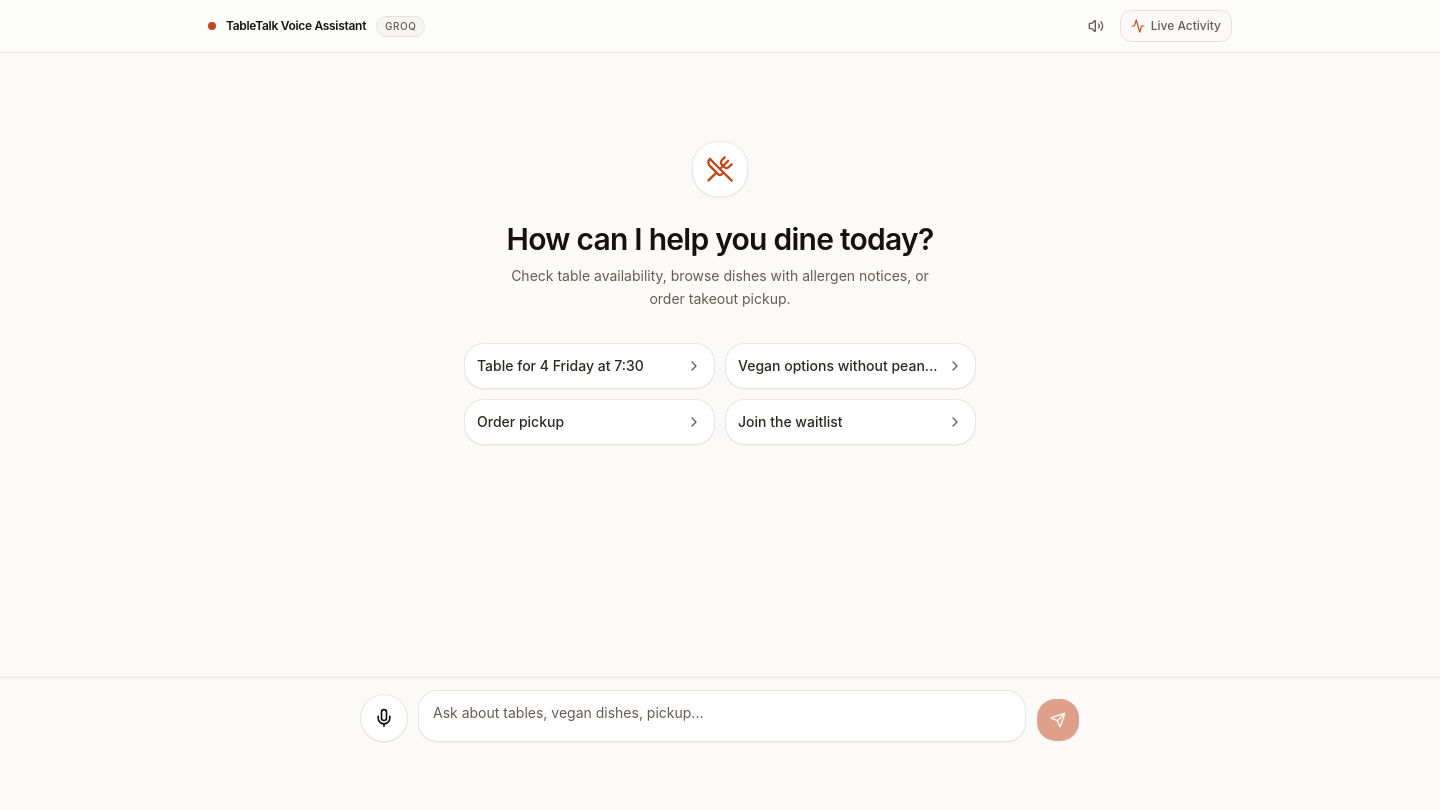
Test: Assistant Page (/assistant) › renders audio narration mute toggle and controls
This screenshot has width=1440, height=810.
Click the button named "Mute Voice Narration": (1096, 26) [1080,10,1112,42]
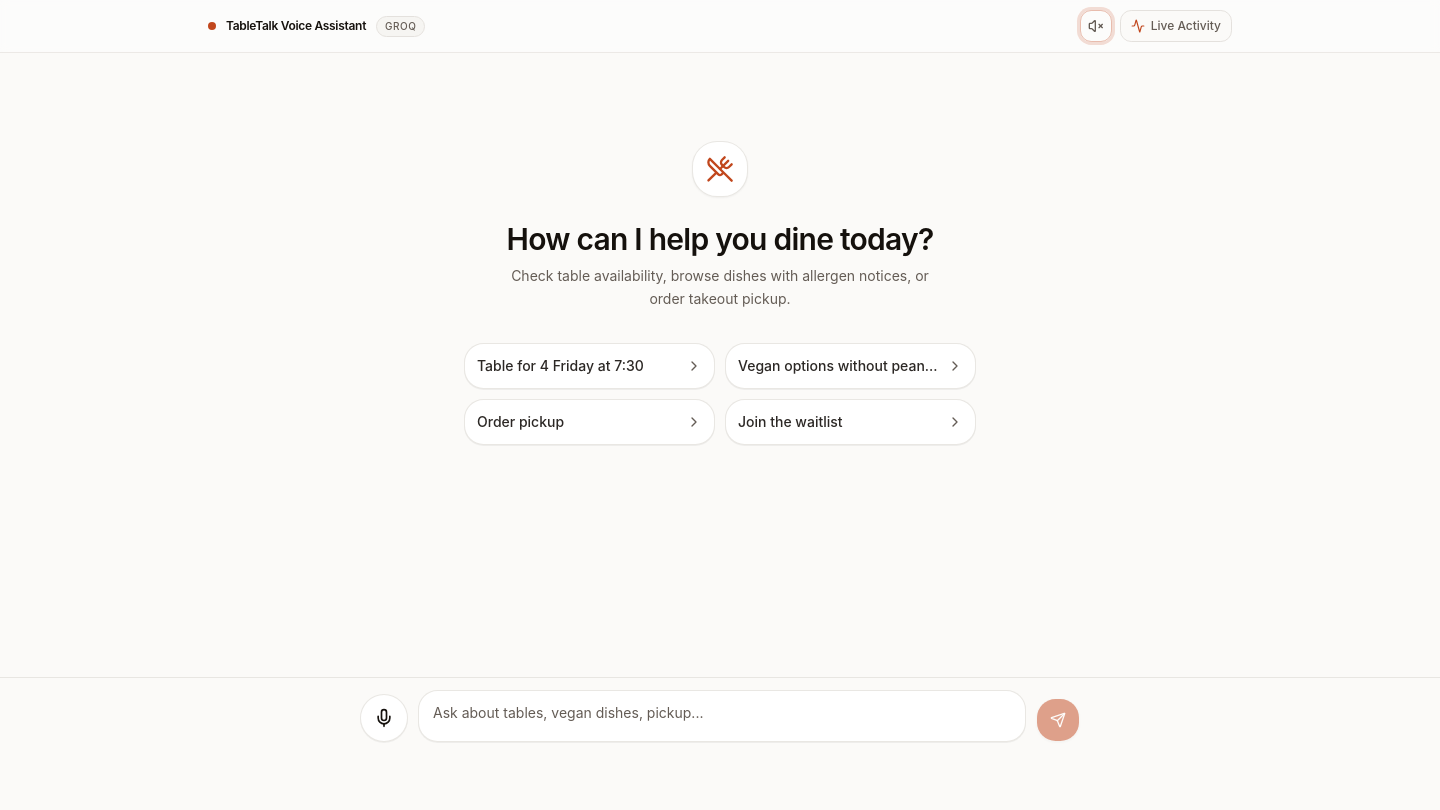
Expected: the button named "Enable Voice Narration" is shown, [1080,10,1112,42]
